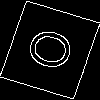O: (25, 25, 84, 77)
